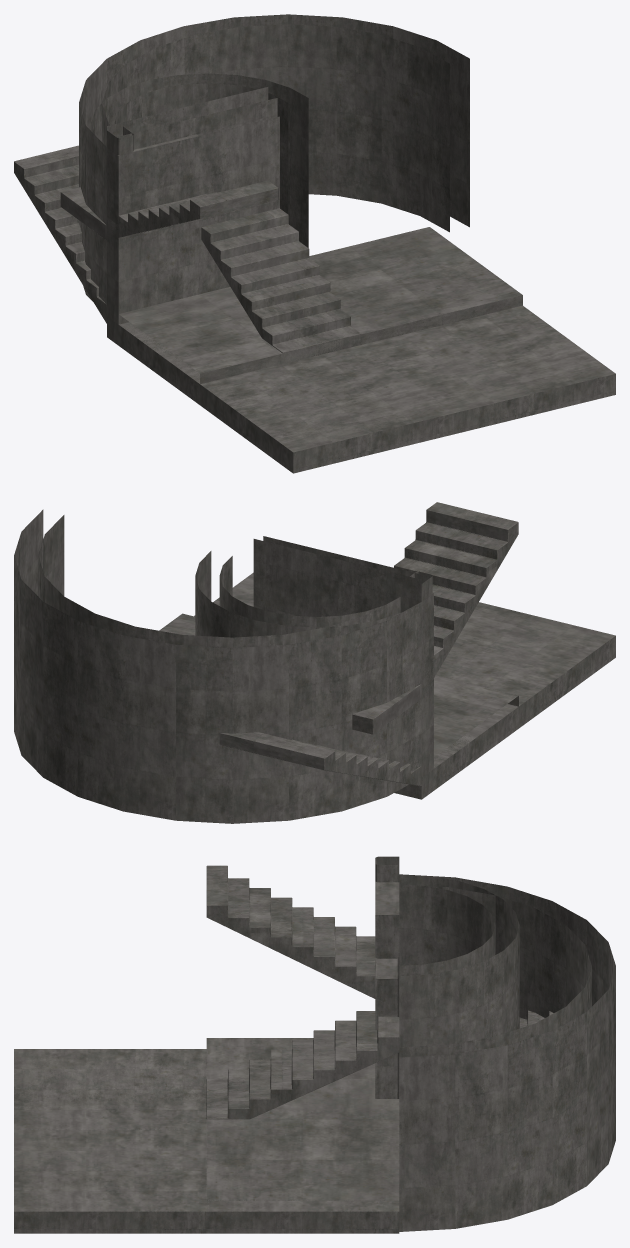
The model's file is Concrete.Kit.fbx.
3 views of the same model, one above another, from view 1: azimuth 30°, elevation 25°; view 2: azimuth 150°, elevation 25°; view 3: azimuth 270°, elevation 25° (orthographic). The views are drawn at different scales.
Parts seen in each view (by area): view 1: Wall.Round.9x4m, Floor.8x8m, Stairs.Floor.8x4m, StairsX2.4m, Wall.Round.5x4m, Floor2Side.8x8m, Wall.2x4m, Wall.Door.4x4m, Wall.2x2m, Stairs.4m, Wall2Side.4x4m, Stairs.Wall.4x4.4m (+5 smaller); view 2: Wall.Round.9x4m, StairsX2.4m, Floor.8x8m, Stairs.Wall.4x4.4m, Wall.Round.5x4m, Wall.4x4.5m, Stairs.Floor.8x4m, Stairs.4m, Floor2Side.8x8m, Stairs.Wall.Corner.4x4.4m, Floor2Side.4x4m.001, Wall.2x4m (+1 smaller); view 3: Wall.Round.9x4m, Floor.8x8m, Stairs.Floor.8x4m, StairsX2.4m, Wall.Round.5x4m, Floor2SideCorner.4x4m, Floor2Side.8x8m, Wall.Door.4x4m, Wall.2x4m, Stairs.Wall.Corner.4x4.4m.
Boxes of the visible parts, bbox=[...] form: Wall.Round.9x4m: bbox=[79, 14, 469, 301]; Floor.8x8m: bbox=[119, 305, 615, 452]; Stairs.Floor.8x4m: bbox=[119, 227, 522, 384]; StairsX2.4m: bbox=[60, 180, 360, 363]; Wall.Round.5x4m: bbox=[91, 73, 308, 315]; Floor2Side.8x8m: bbox=[160, 366, 615, 473]; Wall.2x4m: bbox=[107, 134, 199, 323]; Wall.Door.4x4m: bbox=[118, 116, 279, 323]; Wall.2x2m: bbox=[107, 225, 199, 324]; Stairs.4m: bbox=[14, 145, 106, 323]; Wall2Side.4x4m: bbox=[119, 117, 279, 316]; Stairs.Wall.4x4.4m: bbox=[108, 98, 277, 149]; Wall.Round.9x4m: bbox=[14, 509, 402, 823]; StairsX2.4m: bbox=[352, 502, 518, 734]; Floor.8x8m: bbox=[194, 572, 615, 759]; Stairs.Wall.4x4.4m: bbox=[253, 536, 430, 616]; Wall.Round.5x4m: bbox=[195, 551, 421, 788]; Wall.4x4.5m: bbox=[253, 539, 421, 616]; Stairs.Floor.8x4m: bbox=[159, 613, 518, 757]; Stairs.4m: bbox=[219, 732, 421, 786]; Floor2Side.8x8m: bbox=[454, 636, 615, 773]; Stairs.Wall.Corner.4x4.4m: bbox=[410, 571, 432, 777]; Floor2Side.4x4m.001: bbox=[394, 711, 518, 799]; Wall.2x4m: bbox=[337, 582, 433, 772]; Wall.Round.9x4m: bbox=[399, 874, 615, 1231]; Floor.8x8m: bbox=[14, 1049, 208, 1211]; Stairs.Floor.8x4m: bbox=[206, 1038, 399, 1208]; StairsX2.4m: bbox=[206, 865, 399, 1119]; Wall.Round.5x4m: bbox=[399, 875, 519, 1047]; Floor2SideCorner.4x4m: bbox=[14, 1050, 399, 1211]; Floor2Side.8x8m: bbox=[14, 1211, 399, 1233]; Wall.Door.4x4m: bbox=[375, 957, 399, 1098]; Wall.2x4m: bbox=[375, 881, 399, 958]; Stairs.Wall.Corner.4x4.4m: bbox=[375, 856, 399, 882].
Size of the model in its own units: 9 by 5 by 12.5.
